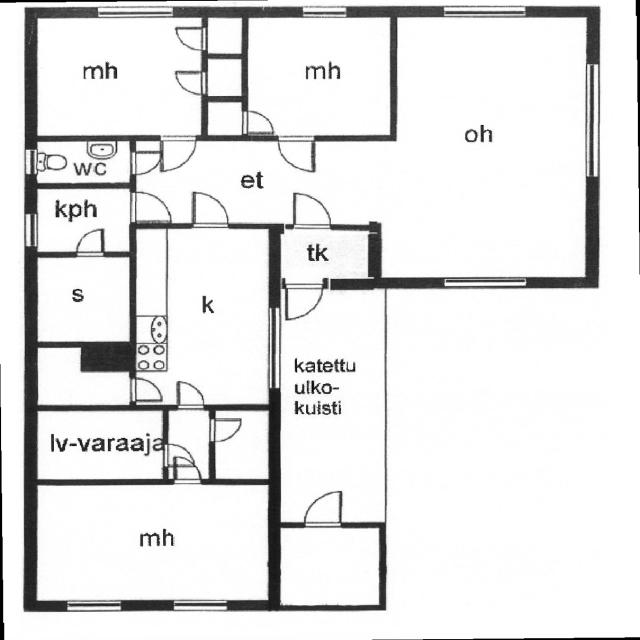door: (124, 146, 166, 214), (301, 486, 349, 531), (184, 189, 234, 230), (286, 190, 336, 229), (156, 134, 200, 176), (274, 134, 320, 174), (282, 281, 326, 322), (127, 188, 174, 225), (172, 378, 212, 411), (123, 148, 164, 180), (72, 224, 109, 259), (167, 444, 201, 482), (126, 374, 166, 405), (168, 68, 210, 97), (206, 415, 244, 444), (240, 108, 277, 136), (173, 25, 210, 52), (166, 443, 194, 466)
window: (573, 58, 610, 182), (437, 1, 534, 24), (436, 272, 535, 293), (262, 302, 284, 393), (166, 598, 237, 616), (58, 598, 128, 615), (98, 5, 176, 20), (18, 208, 42, 253), (297, 3, 353, 21), (20, 144, 40, 178)
zone: (393, 7, 595, 281), (31, 480, 272, 606), (131, 224, 273, 405), (28, 13, 207, 139), (243, 12, 396, 138), (31, 407, 164, 482), (32, 254, 132, 346), (278, 525, 382, 609), (29, 186, 133, 255), (29, 348, 135, 407), (280, 226, 373, 280), (30, 137, 135, 184), (212, 408, 270, 482), (58, 211, 118, 261), (203, 98, 245, 138), (204, 16, 245, 56), (205, 57, 245, 98)
